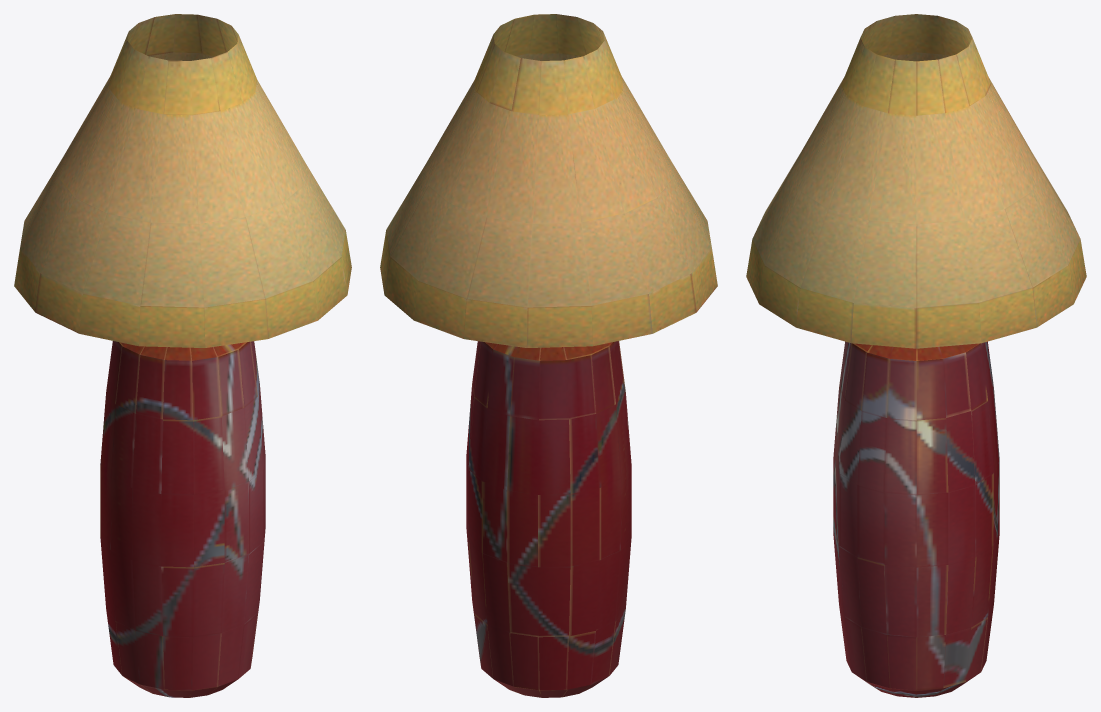
The model's file is lamp01.fbx.
3 renders of one model, left to right at view 1: azimuth 30°, elevation 25°; view 2: azimuth 150°, elevation 25°; view 3: azimuth 270°, elevation 25°, orthographic.
Parts seen in each view (by area): view 1: lamp01; view 2: lamp01; view 3: lamp01.
Part boxes in pixels (x1,y1,x2,y2): lamp01: (14, 14, 351, 697); lamp01: (380, 14, 717, 697); lamp01: (746, 14, 1086, 697).
Size of the model in its own units: 0.2748 by 0.2748 by 0.5691.
1 material, 1 textured.
